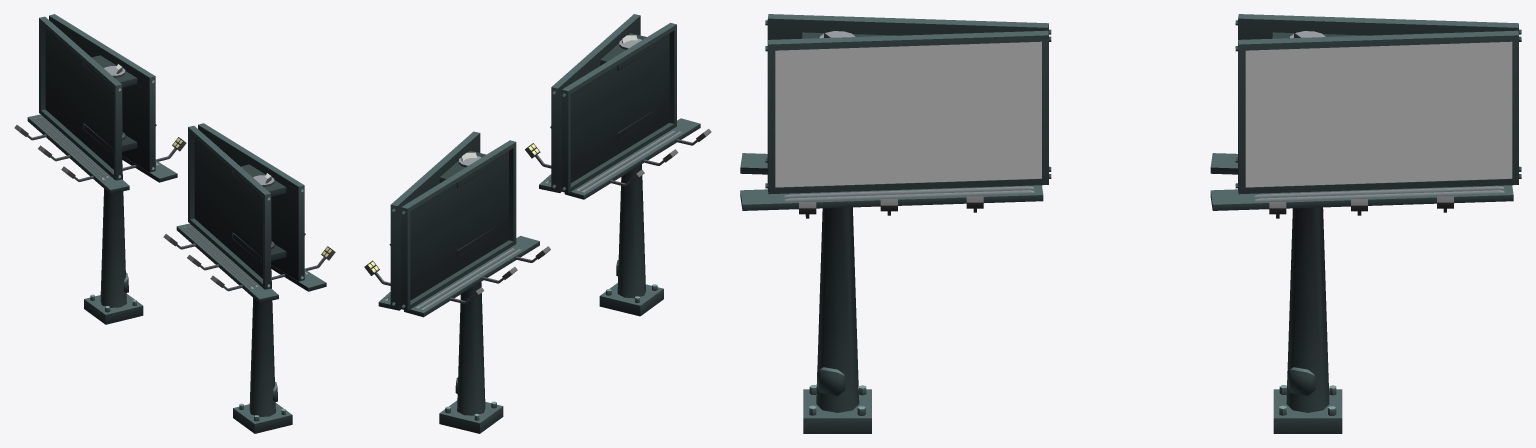
Rendered from update.fbx.
3 renders of one model, left to right at view 1: azimuth 30°, elevation 25°; view 2: azimuth 150°, elevation 25°; view 3: azimuth 270°, elevation 25°, orthographic. The views are drawn at different scales.
Parts seen in each view (by area): view 1: Billboard_5, Billboard_4; view 2: Billboard_5, Billboard_4; view 3: banner_2, banner_1, Billboard_4, Billboard_5.
Part boxes in pixels (x1,y1,x2,y2): Billboard_5: (14,14,186,324); Billboard_4: (163,123,335,433); Billboard_5: (364,131,550,433); Billboard_4: (525,14,711,316); banner_2: (1245,41,1512,187); banner_1: (775,41,1041,187); Billboard_4: (740,14,1051,433); Billboard_5: (1210,14,1521,433).
Bounding box in the file's own units: 196 × 382 × 693.
